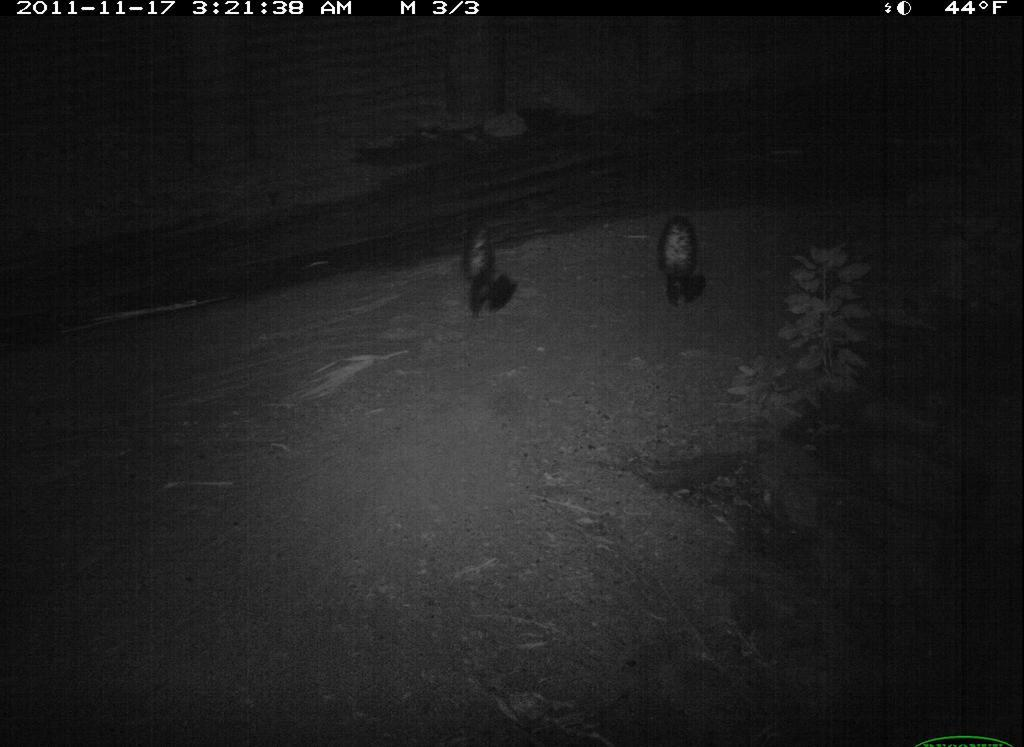skunk: (455, 216, 523, 326), (649, 209, 717, 314)
